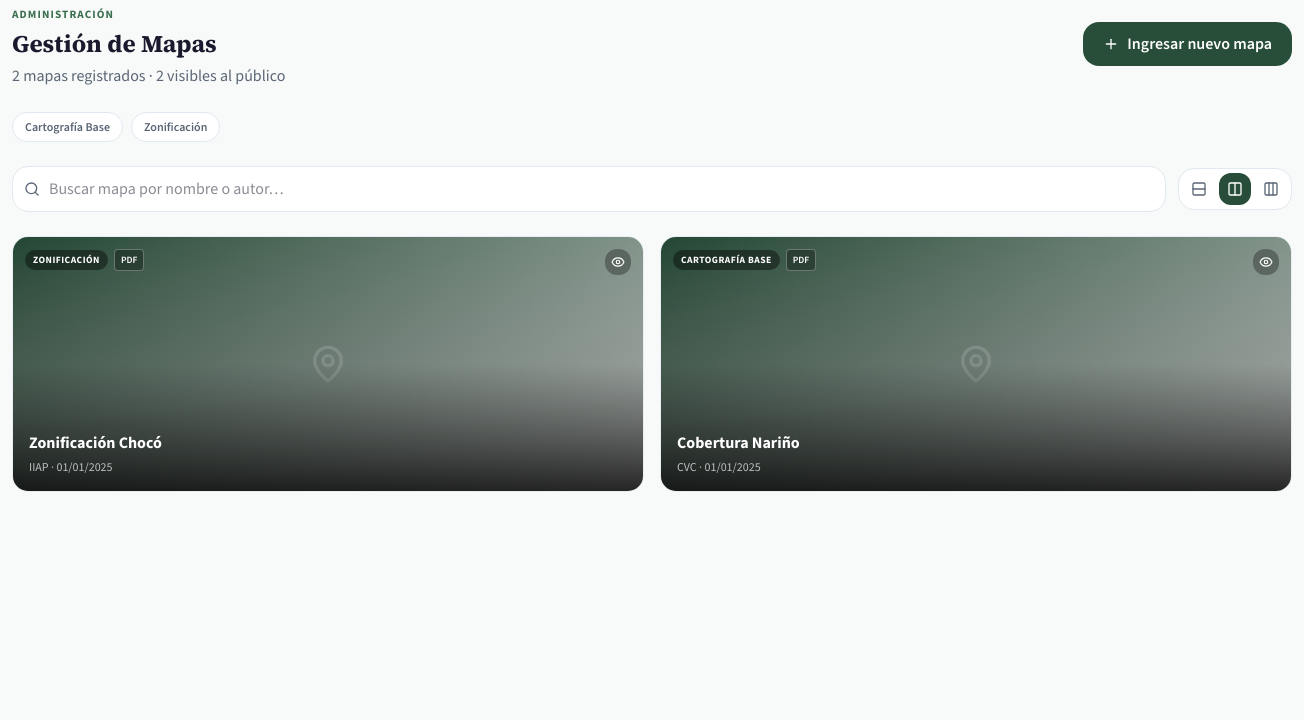
GestionMapas — tarjetas y filtros › el buscador filtra por nombre y por autor
The width and height of the screenshot is (1304, 720).
Type "cvc" into the field named "Buscar mapas por nombre o autor".
click(589, 189); type("cvc")  # box [12, 166, 1166, 212]
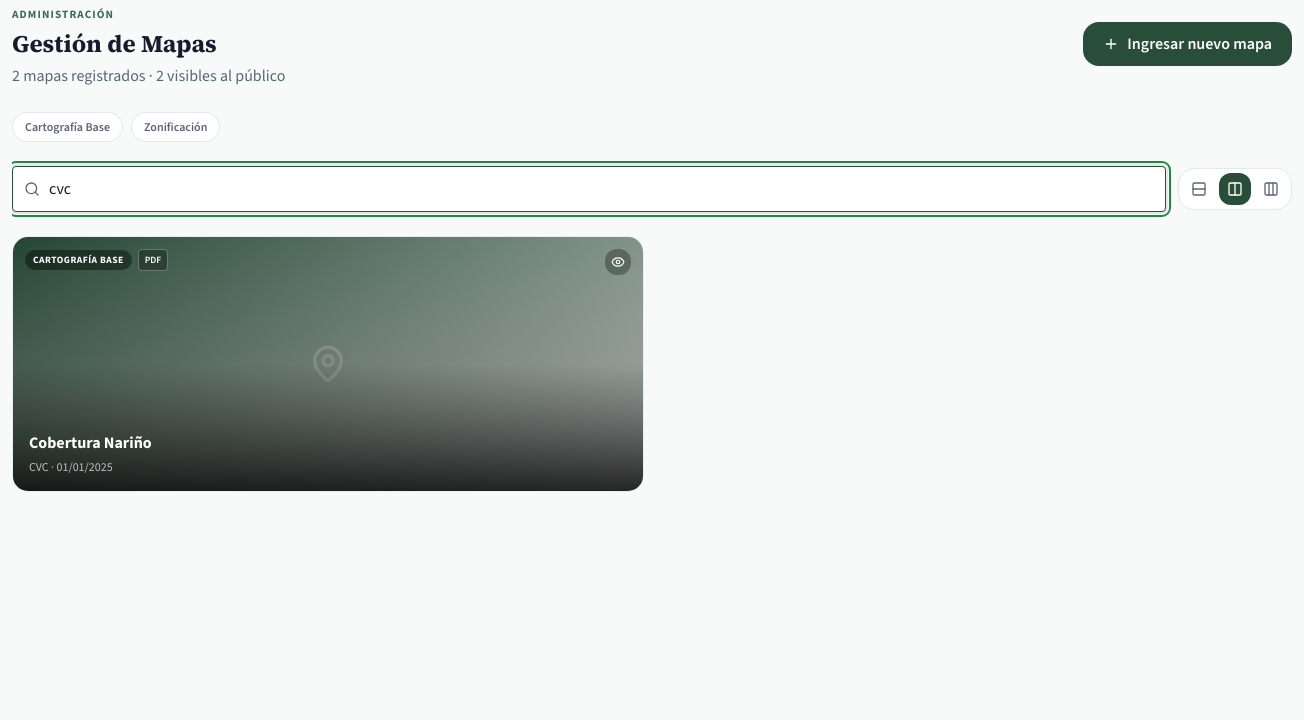
Expected: the text "Cobertura Nariño" is shown, [29, 432, 152, 453]
Expected: the button "Zonificación Chocó" is gone
